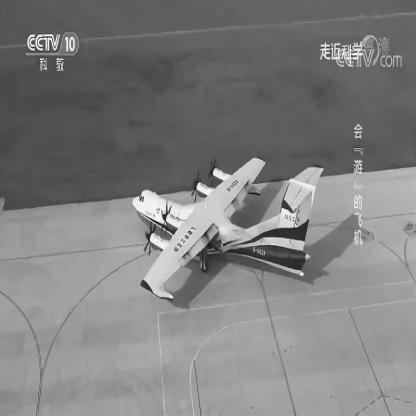AG600: (133, 156, 326, 304)
